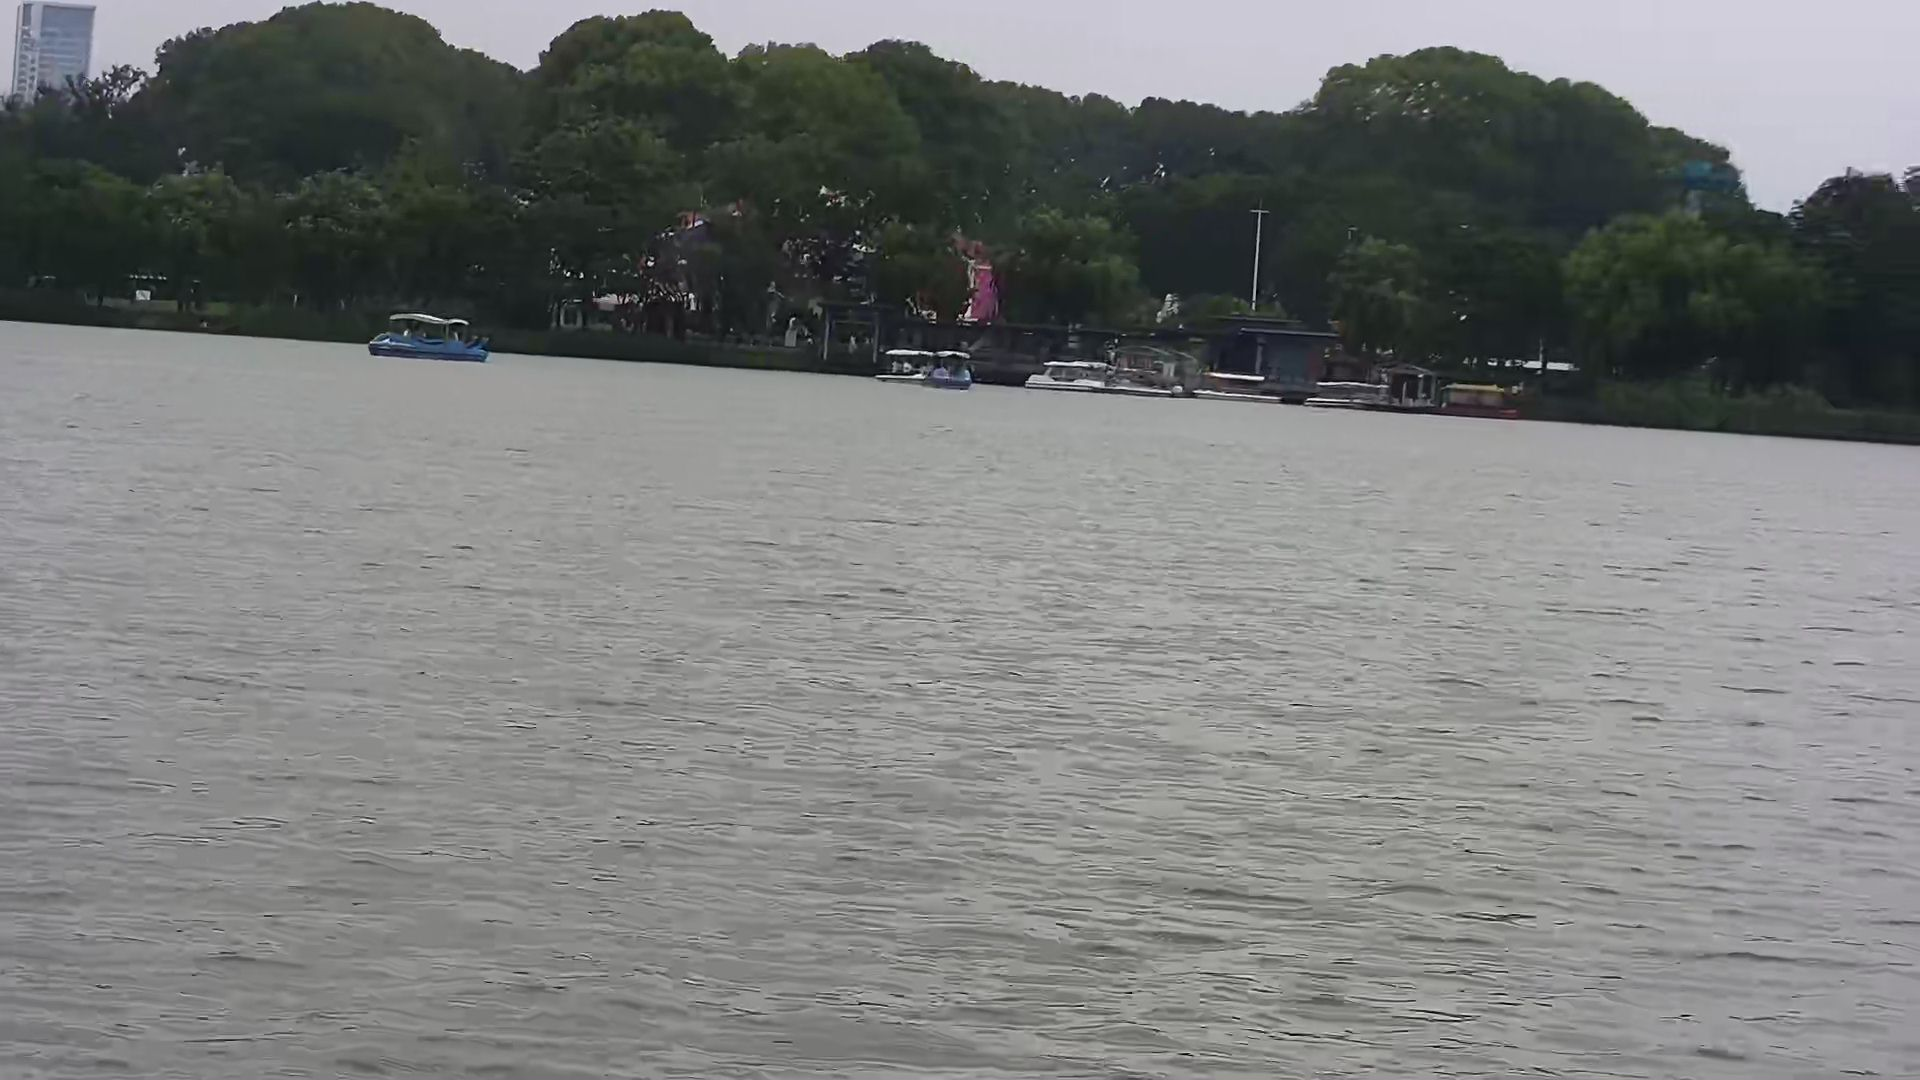boat: (360, 316, 492, 364), (873, 342, 975, 386)
harbor: (1018, 322, 1520, 425)
